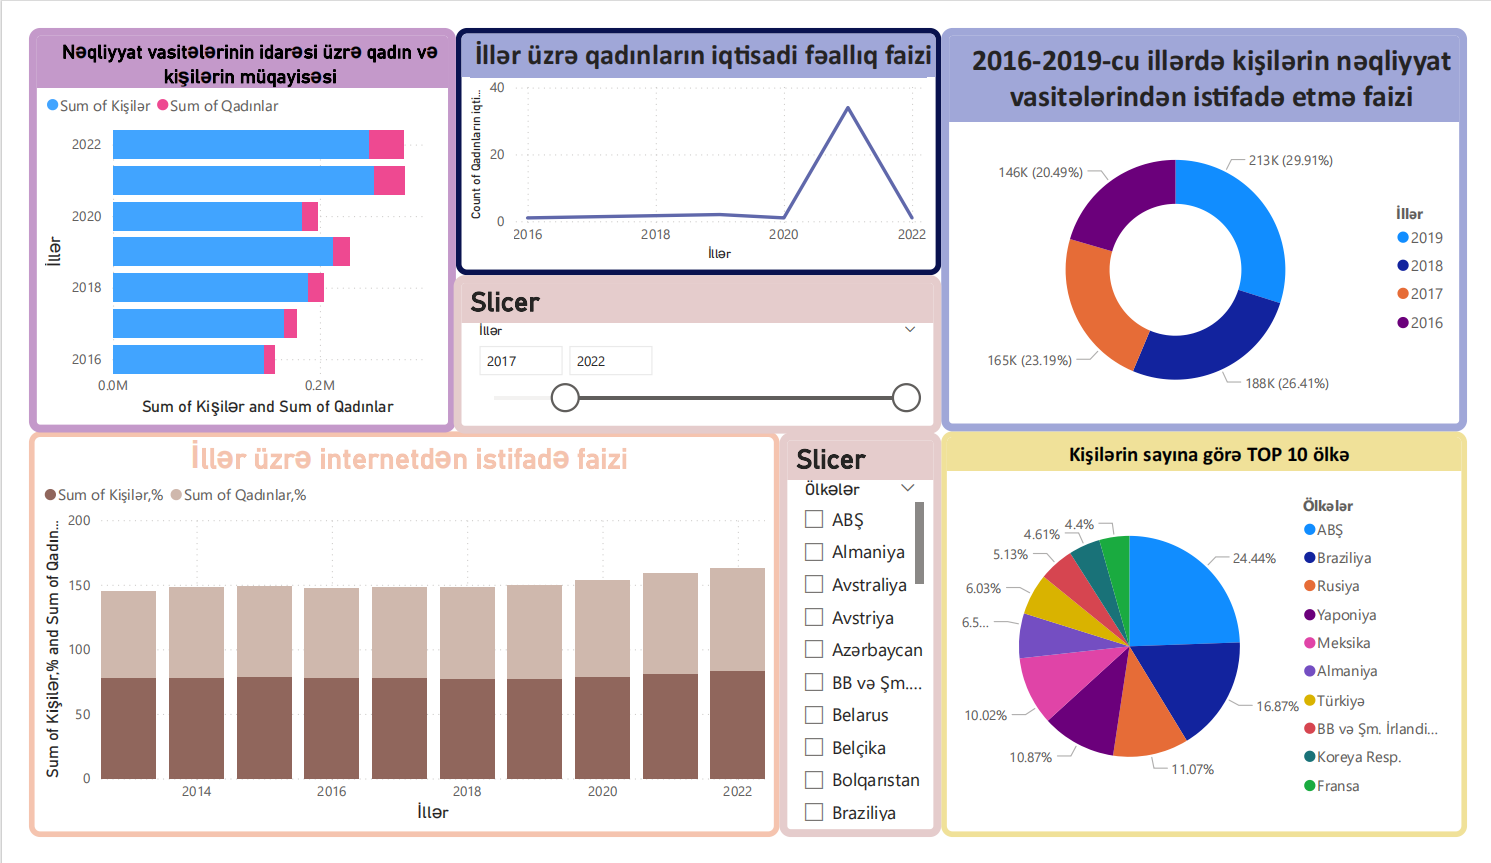

This screenshot's page, from the dashboard's own definition file:
{"tool":"powerbi","page":{"name":"Page 3","canvas":[1280,720],"ordinal":2},"visuals":[{"type":"lineChart","title":"İllər üzrə qadınların iqtisadi fəallıq faizi","fields":{"Category":["İqtisadi fəallıq faizi.İllər"],"Y":["CountNonNull(İqtisadi fəallıq faizi.Qadınların iqtisadi fəallıq səviyyəsi)"]},"box":[379.6,0,432.3,219.6],"z":0},{"type":"columnChart","title":"İllər üzrə internetdən istifadə faizi","fields":{"Category":["İnternet istifadəsi faizi.İllər"],"Y":["Sum(İnternet istifadəsi faizi.Kişilər,%)","Sum(İnternet istifadəsi faizi.Qadınlar,%)"]},"box":[0,359.3,667.7,360.7],"z":1000},{"type":"pieChart","title":"Kişilərin sayına görə TOP 10 ölkə","fields":{"Category":["Ölkə üzrə əhali.Ölkələr"],"Y":["Sum(Ölkə üzrə əhali.Kişilər)"]},"box":[812.2,359.3,468.1,360.7],"z":2000},{"type":"donutChart","title":"2016-2019-cu illərdə kişilərin nəqliyyat vasitələrindən istifadə etmə faizi","fields":{"Category":["Nəqliyyat v#nin idarəsi.İllər"],"Y":["Sum(Nəqliyyat v#nin idarəsi.Kişilər)"]},"box":[812.2,0,468.1,359.3],"z":3000},{"type":"barChart","title":"Nəqliyyat vasitələrinin idarəsi üzrə qadın və kişilərin müqayisəsi","fields":{"Category":["Nəqliyyat v#nin idarəsi.İllər"],"Y":["Sum(Nəqliyyat v#nin idarəsi.Kişilər)","Sum(Nəqliyyat v#nin idarəsi.Qadınlar)"]},"box":[0,0,380.1,359.5],"z":4000},{"type":"slicer","title":"Slicer","fields":{"Values":["Ölkə üzrə əhali.Ölkələr"]},"box":[668.3,359.5,144.1,360.9],"z":5000},{"type":"slicer","title":"Slicer","fields":{"Values":["Ölkə üzrə əhali.İllər"]},"box":[377.9,219.6,434,141.3],"z":6000}]}

Visuals, with their boxes in screenshot pixels (x1, y1, x2, y2), scaled from the page's 1280x720 canvas onto the 1491x863 screenshot:
"İllər üzrə qadınların iqtisadi fəallıq faizi" lineChart: <bbox>442, 0, 946, 263</bbox>
"İllər üzrə internetdən istifadə faizi" columnChart: <bbox>0, 431, 778, 862</bbox>
"Kişilərin sayına görə TOP 10 ölkə" pieChart: <bbox>946, 431, 1490, 862</bbox>
"2016-2019-cu illərdə kişilərin nəqliyyat vasitələrindən istifadə etmə faizi" donutChart: <bbox>946, 0, 1490, 431</bbox>
"Nəqliyyat vasitələrinin idarəsi üzrə qadın və kişilərin müqayisəsi" barChart: <bbox>0, 0, 443, 431</bbox>
"Slicer" slicer: <bbox>778, 431, 946, 862</bbox>
"Slicer" slicer: <bbox>440, 263, 946, 433</bbox>
